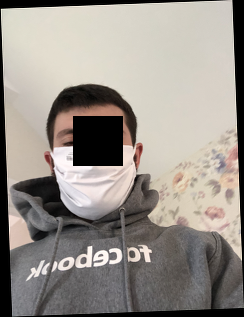with_mask: (53, 118, 136, 218)
